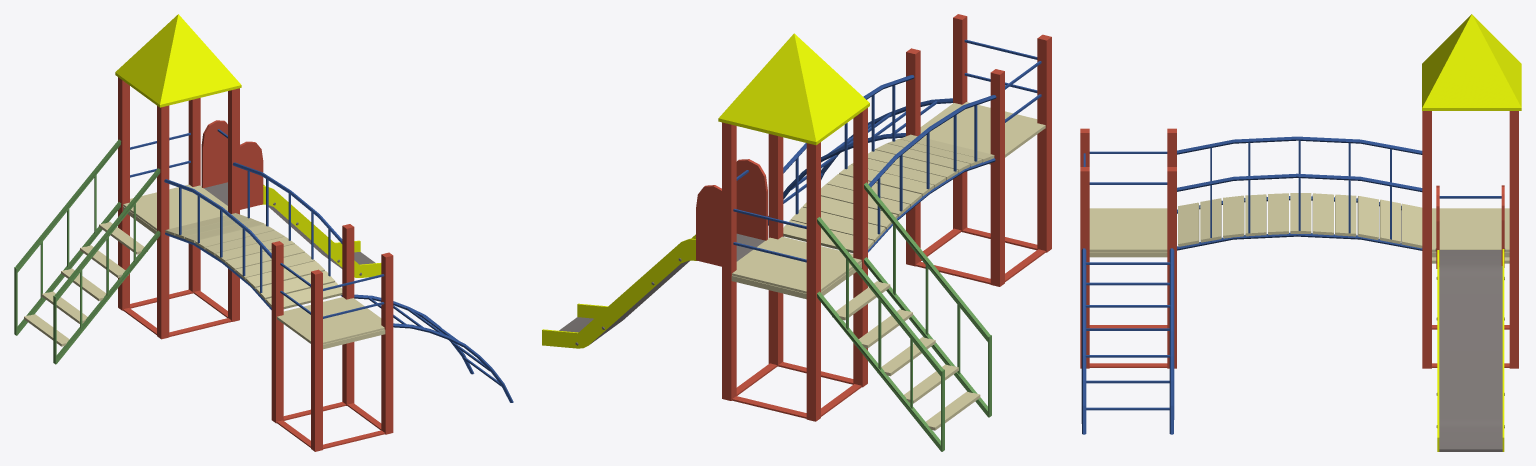
File: playset1.glb
The picture shows the model from 3 angles, left to right: view 1: azimuth 30°, elevation 25°; view 2: azimuth 150°, elevation 25°; view 3: azimuth 270°, elevation 25°; orthographic projection. The views are drawn at different scales.
Visible parts, largest first — view 1: SM_Playground_01; view 2: SM_Playground_01; view 3: SM_Playground_01.
Boxes of the visible parts, x1,y1,x2,y2 form: SM_Playground_01: (14, 14, 513, 451); SM_Playground_01: (542, 14, 1051, 451); SM_Playground_01: (1080, 14, 1521, 451).
Size of the model in its own units: 3.84 by 3.23 by 3.88.
1 material, 1 textured.
